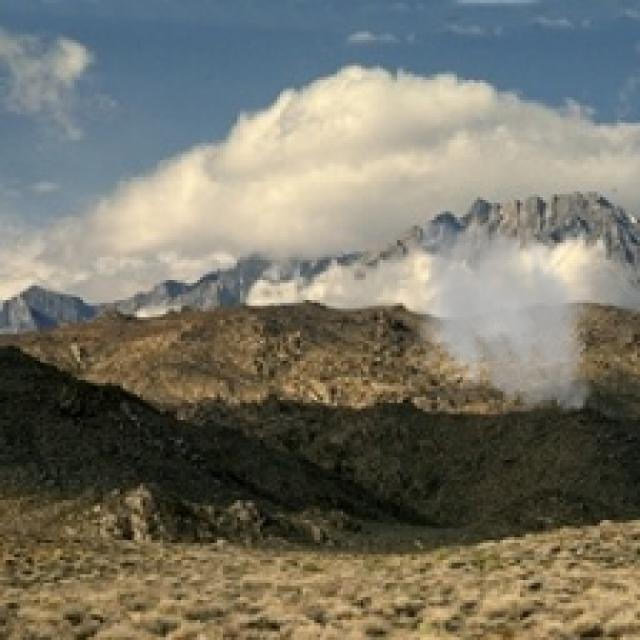smoke: (406, 211, 608, 420)
